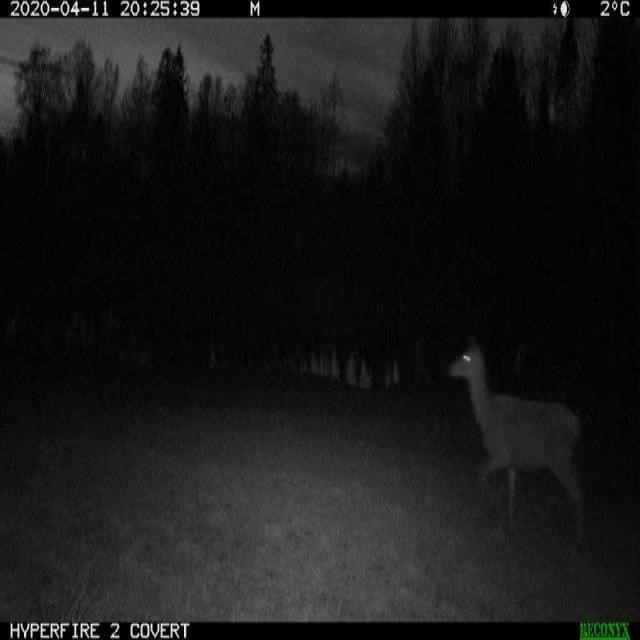deer: (438, 317, 591, 555)
